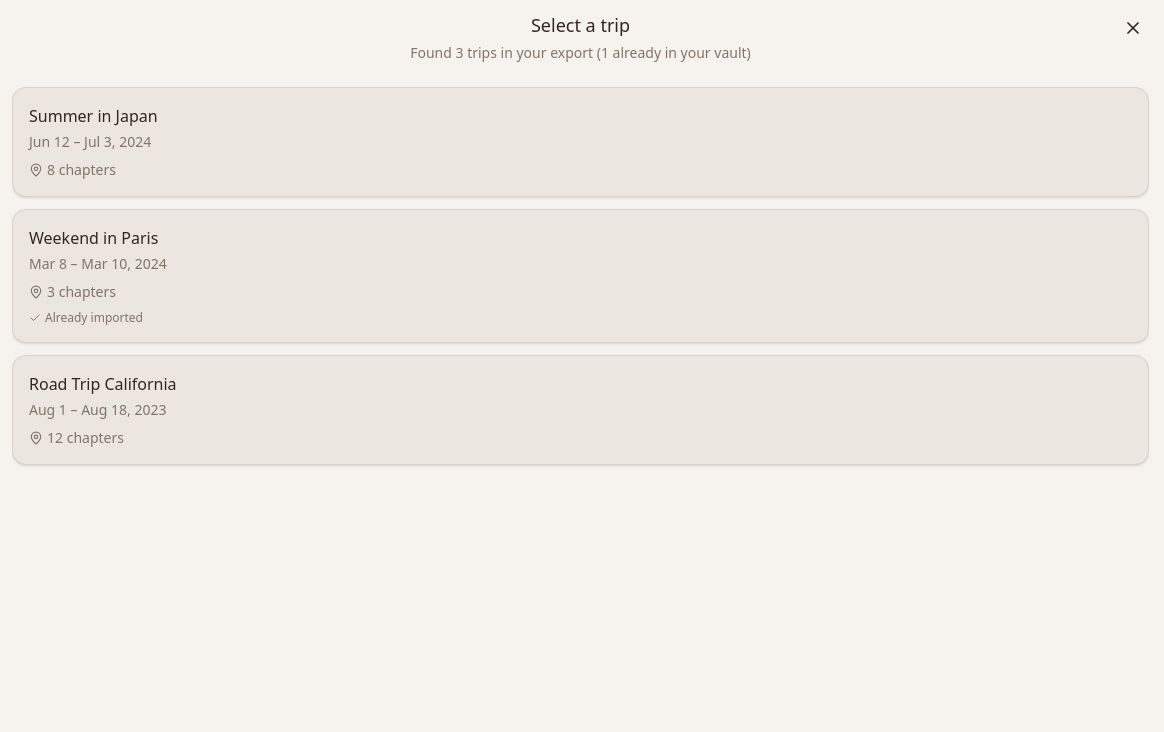
Scenario: TripSelectionList › cancel in confirmation closes it
This screenshot has width=1164, height=732.
Click the button "Weekend in Paris".
click(94, 238)  # box left=13, top=210, right=1148, bottom=342
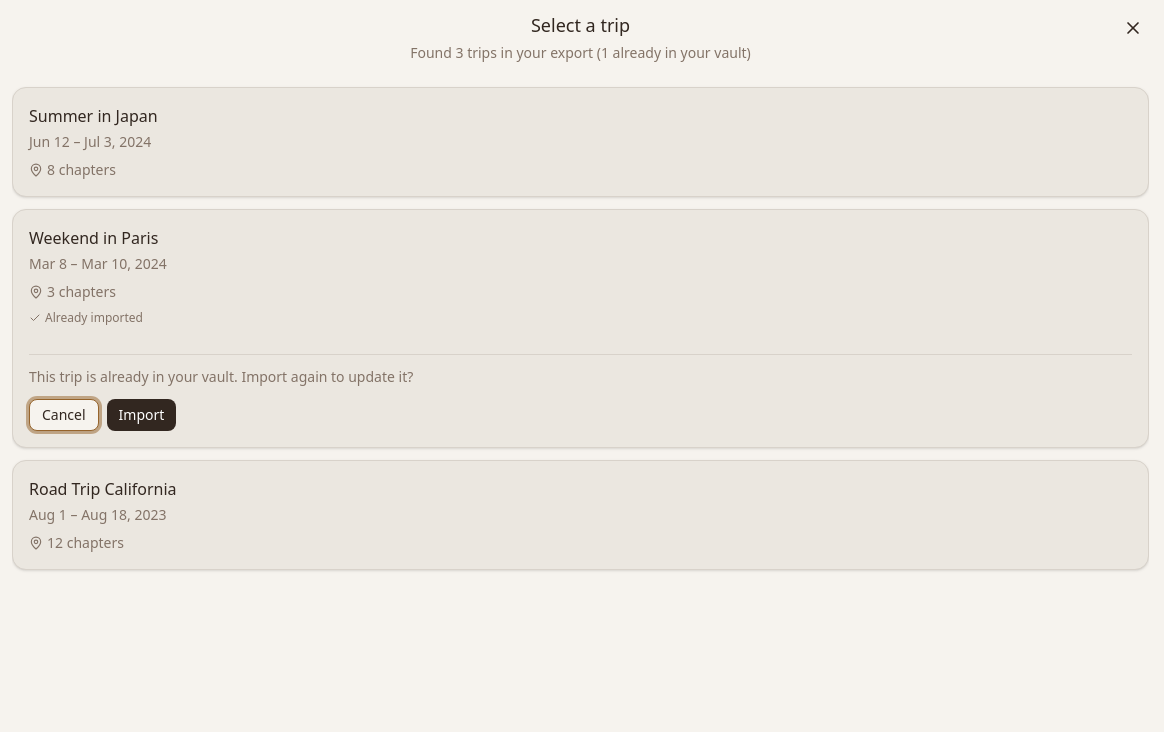
Expected: the text "Import again to update it" is shown, left=29, top=367, right=413, bottom=386
Click the button "Cancel".
click(64, 415)  # box left=29, top=399, right=99, bottom=431
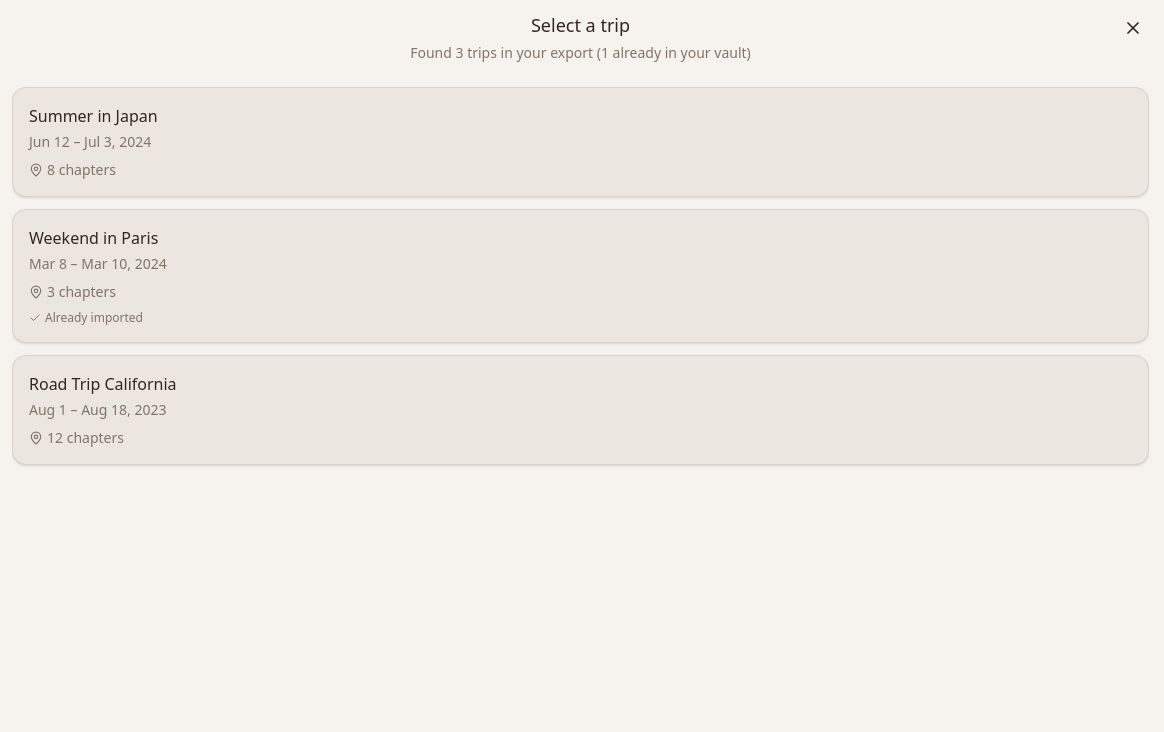
Expected: the text "Import again to update it" is gone
